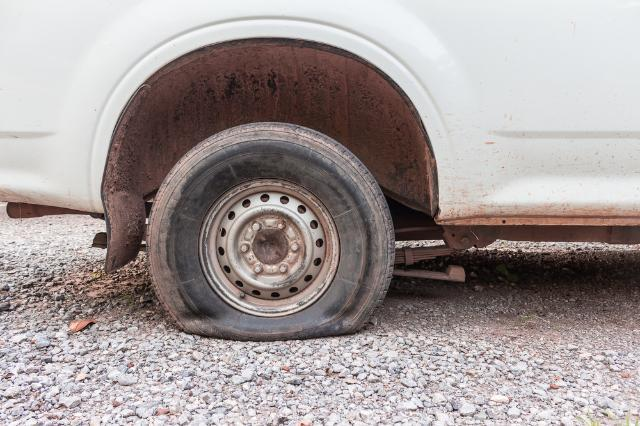tire flat: (149, 121, 395, 342)
